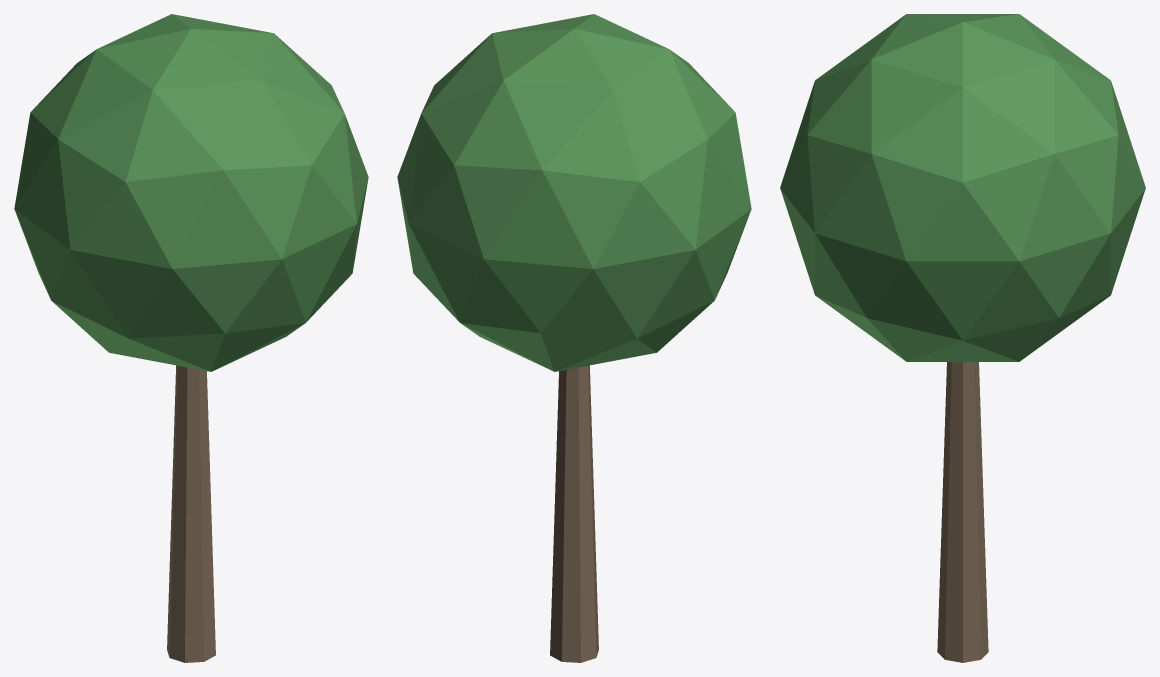
Rendered from magnolia.glb.
The picture shows the model from 3 angles, left to right: view 1: azimuth 30°, elevation 25°; view 2: azimuth 150°, elevation 25°; view 3: azimuth 270°, elevation 25°; orthographic projection.
Parts seen in each view (by area): view 1: Magnolia; view 2: Magnolia; view 3: Magnolia.
Part boxes in pixels (x1,y1,x2,y2): Magnolia: (14, 14, 368, 662); Magnolia: (397, 14, 751, 662); Magnolia: (780, 14, 1145, 662).
Bounding box in the file's own units: 0.9511 × 1.9 × 1.
